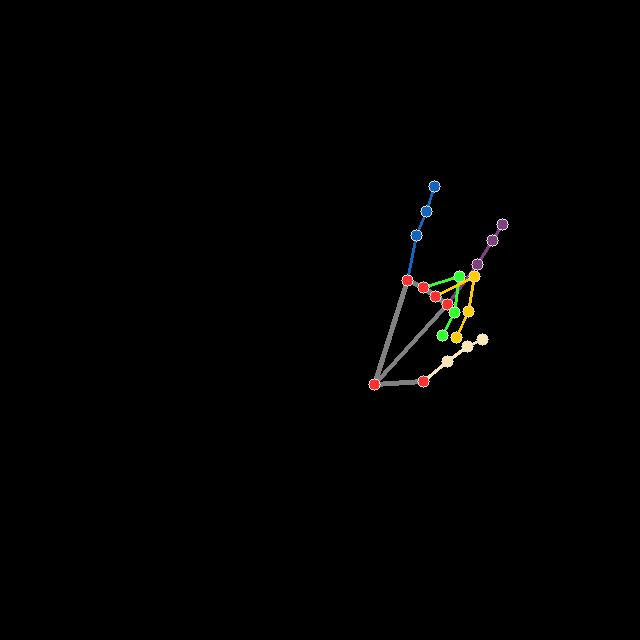spiderman: (369, 181, 509, 389)
